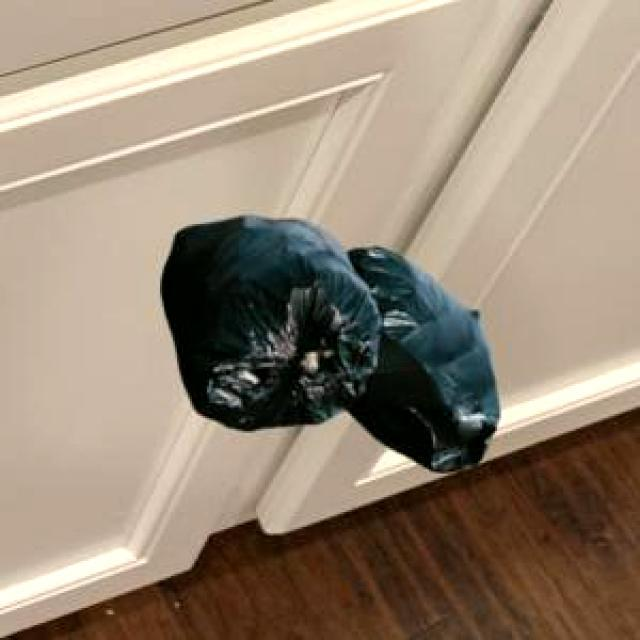Garbage_Bag: (159, 212, 496, 468)
